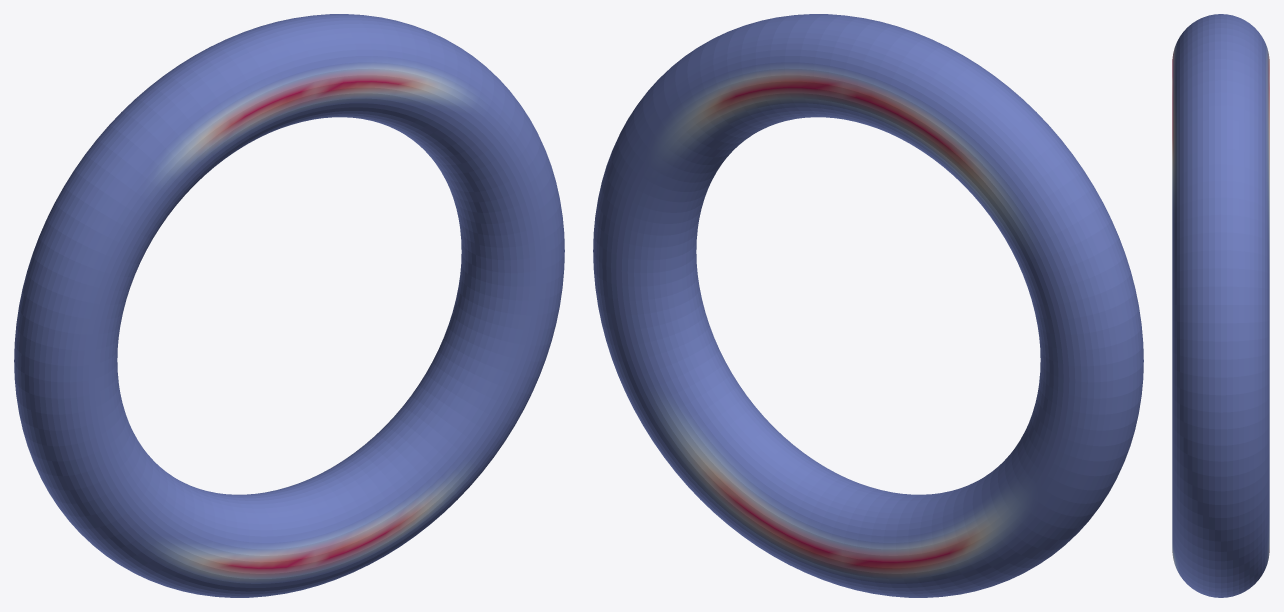
The picture shows the model from 3 angles, left to right: view 1: azimuth 30°, elevation 25°; view 2: azimuth 150°, elevation 25°; view 3: azimuth 270°, elevation 25°; orthographic projection. The views are drawn at different scales.
Visible parts, largest first — view 1: world; view 2: world; view 3: world.
Part boxes in pixels (x1,y1,x2,y2): world: (14,14,564,597); world: (593,14,1143,597); world: (1172,14,1269,597).
Size of the model in its own units: 15.2 by 15.2 by 2.53.
